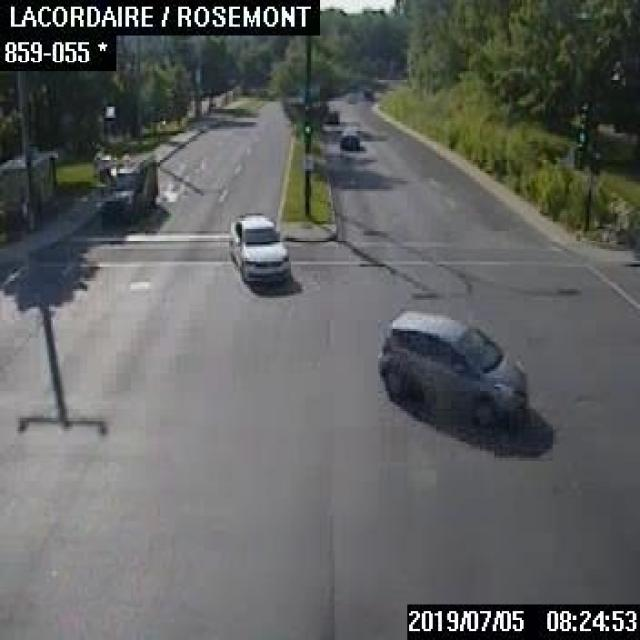vehicle: (375, 310, 526, 424), (228, 212, 288, 282), (99, 154, 154, 222), (338, 130, 359, 148), (323, 106, 337, 122), (362, 86, 372, 96)
